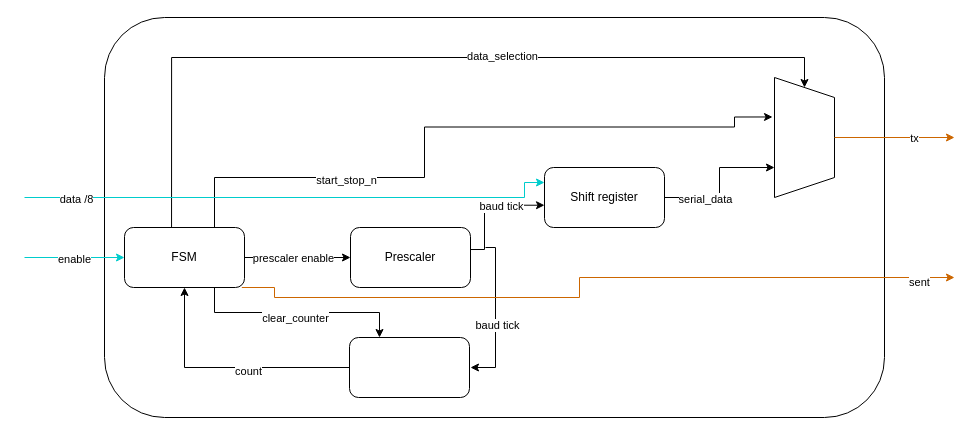
The diagram is 980 pixels wide and 435 high, and some of its shapes have lost their labels. Here are the shapes that lost their labels. From the top down, the centre of each, then its label:
At (804,137): "MUX".
At (409,367): "Counter".
